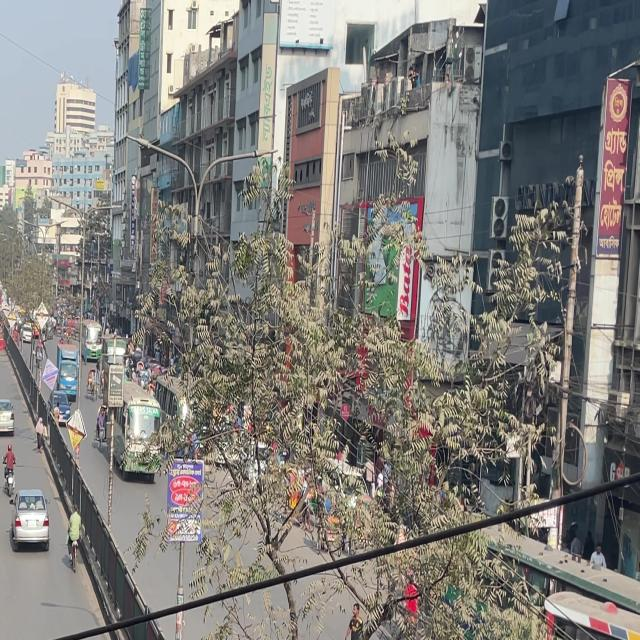bicycle: (66, 503, 88, 574)
bus: (99, 369, 161, 485), (531, 601, 639, 640)
car: (12, 492, 51, 554), (0, 400, 12, 433)
motorbike: (0, 444, 17, 500)
van: (54, 341, 82, 399)
